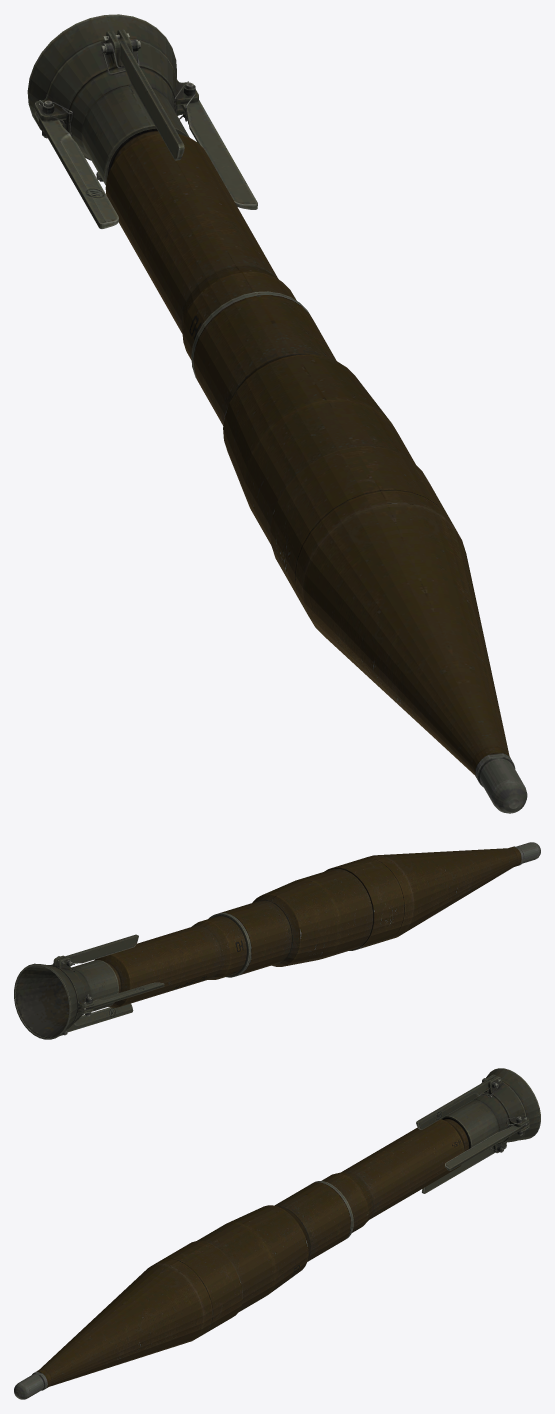
3 views of the same model, one above another, from view 1: azimuth 30°, elevation 25°; view 2: azimuth 150°, elevation 25°; view 3: azimuth 330°, elevation 25° (orthographic). The views are drawn at different scales.
Parts seen in each view (by area): view 1: TW_67446fdd752be02c220f27b3_PZ_Import; view 2: TW_67446fdd752be02c220f27b3_PZ_Import; view 3: TW_67446fdd752be02c220f27b3_PZ_Import.
Boxes of the visible parts, bbox=[...] form: TW_67446fdd752be02c220f27b3_PZ_Import: bbox=[27, 14, 527, 813]; TW_67446fdd752be02c220f27b3_PZ_Import: bbox=[14, 842, 540, 1039]; TW_67446fdd752be02c220f27b3_PZ_Import: bbox=[14, 1068, 540, 1399].
Size of the model in its own units: 0.1037 by 0.3478 by 0.0654.
1 material, 1 textured.
